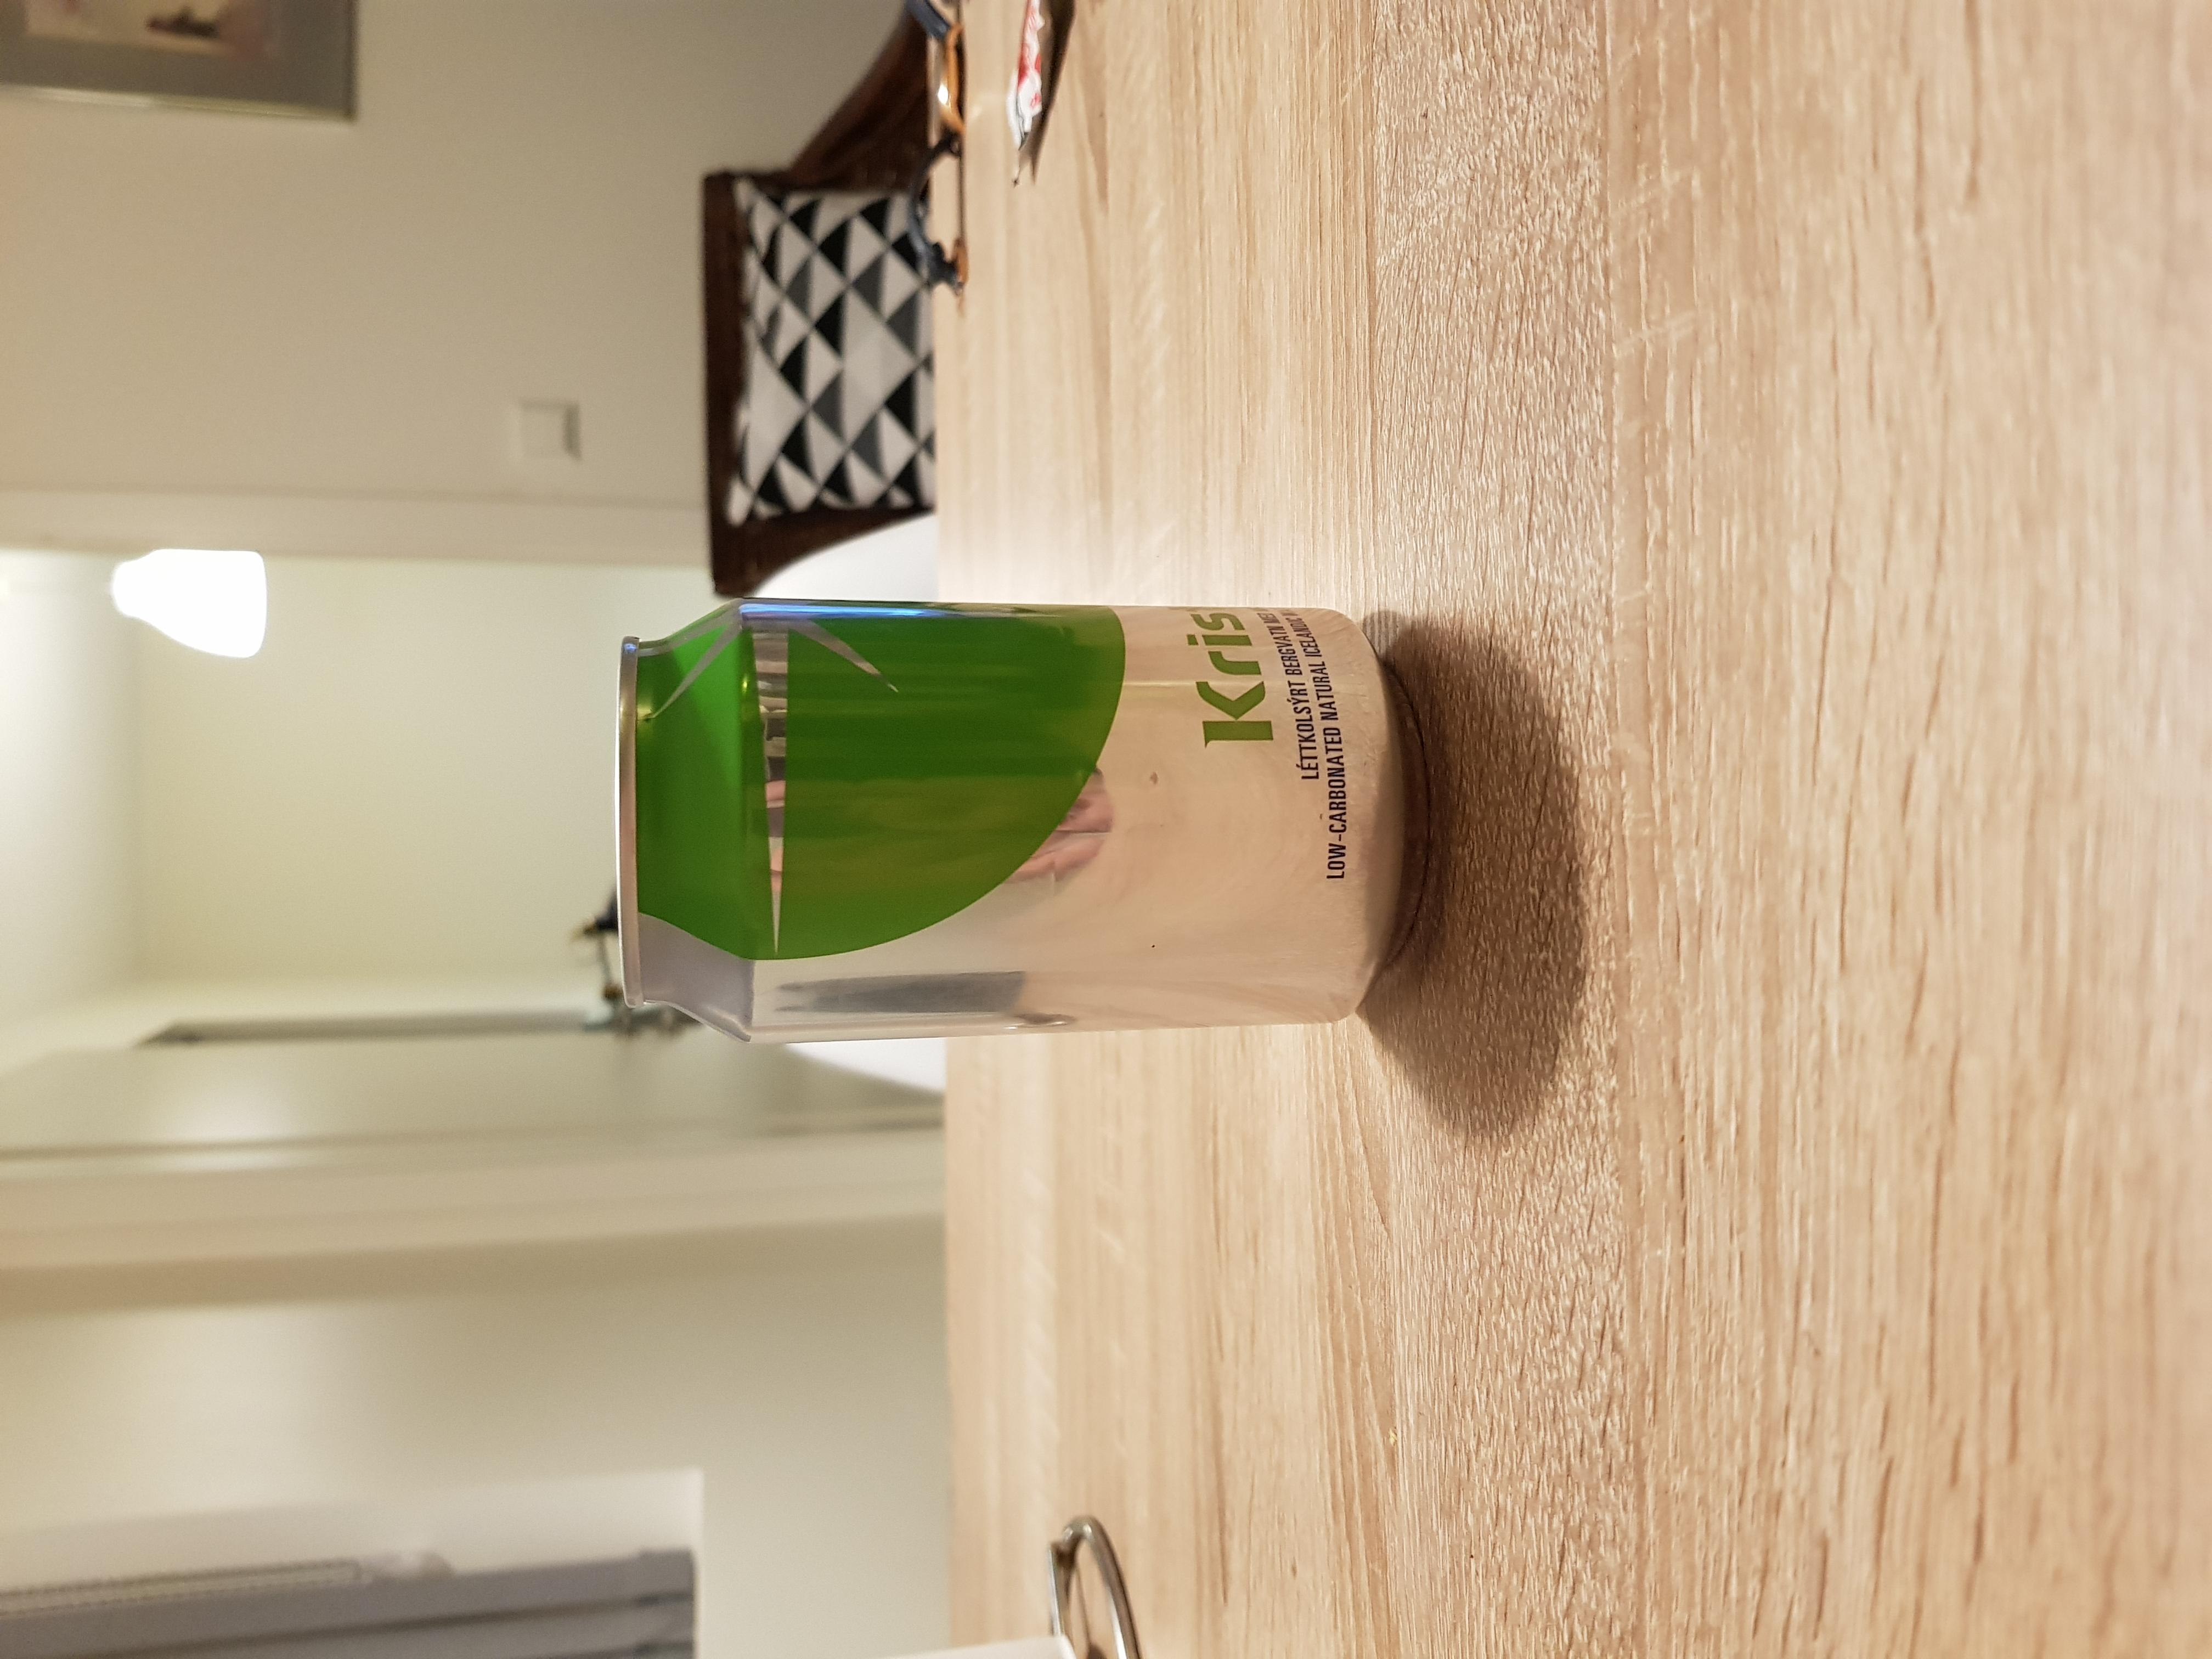Can: (617, 596, 1432, 1053)
